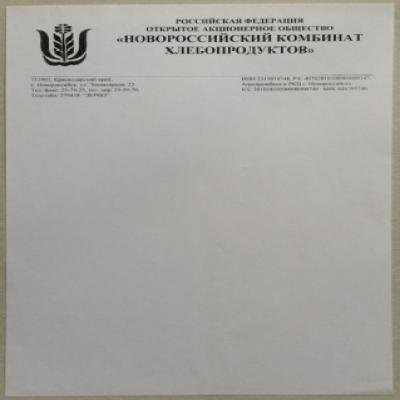document: (6, 5, 394, 396)
